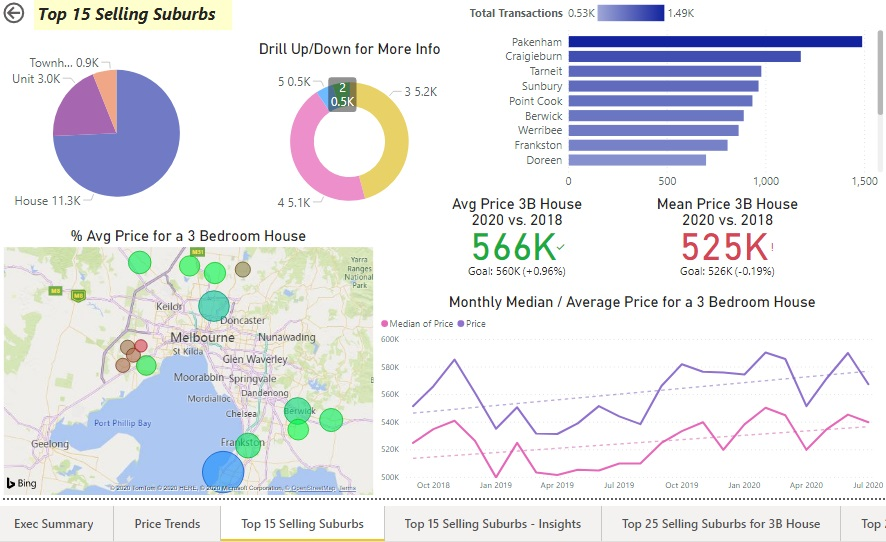

Layout of this report page (visuals, bound fields, positions):
{"tool":"powerbi","page":{"name":"Top 15 Sales Suburbs","canvas":[1280,720],"ordinal":2},"visuals":[{"type":"clusteredBarChart","title":"Top 10 Suburb with the Most Sales","fields":{"Y":["Melb_property_market_18_20.Total Transactions"],"Category":["Melb_property_market_18_20.Suburb"]},"box":[672.7,0,607.3,283.7],"z":0},{"type":"map","title":"% Avg Price for House 3 Bedrooms","fields":{"Category":["Melb_property_market_18_20.Melb_Location_Hierarchy.State","Melb_property_market_18_20.Melb_Location_Hierarchy.City","Melb_property_market_18_20.Melb_Location_Hierarchy.Suburb"],"Y":["Avg(Melb_property_market_18_20.Latitude)"],"X":["Avg(Melb_property_market_18_20.Longitude)"],"Size":["Melb_property_market_18_20.% Avg House Price 20/18"]},"box":[0,328.4,543.6,392.1],"z":1000},{"type":"pieChart","title":"Click on the property type for more info","fields":{"Y":["Melb_property_market_18_20.Total Transactions"],"Category":["Melb_property_market_18_20.Melb_Property_Hierarchy.PropertyType"]},"box":[0,59,336.3,269.4],"z":2000},{"type":"textbox","box":[49.4,0,430.4,44.6],"z":3000},{"type":"donutChart","title":"Drill Up/Down for More Info","fields":{"Y":["Melb_property_market_18_20.Total Transactions"],"Category":["Melb_property_market_18_20.Melb_Property_Hierarchy.PropertyType","Melb_property_market_18_20.Melb_Property_Hierarchy.Bedrooms"]},"box":[336.3,59,336.3,269.4],"z":4000},{"type":"actionButton","box":[0,0,100,40],"z":5000},{"type":"kpi","title":"Avg House 3 Bedrooms Price 2020 vs. 2018","fields":{"Indicator":["Melb_property_market_18_20.Avg 3 House Price 20"],"Goal":["Melb_property_market_18_20.Avg 3 House Price 18"],"TrendLine":["Melb_property_market_18_20.Year"]},"box":[621.7,283.7,304.5,132.3],"z":6000},{"type":"lineChart","title":"Monthly Median / Avg Price for 3 Bedrooms House","fields":{"Category":["Melb_property_market_18_20.Start of Month"],"Y":["Median(Melb_property_market_18_20.Price)","Avg(Melb_property_market_18_20.Price)"]},"box":[543.6,424,736.4,296.5],"z":7000},{"type":"kpi","title":"Med House 3 Bedrooms Price 2020 vs. 2018","fields":{"Goal":["Melb_property_market_18_20.Med 3 House Price 18"],"TrendLine":["Melb_property_market_18_20.Year"],"Indicator":["Melb_property_market_18_20.Med 3 House Price 20"]},"box":[975.5,283.7,304.5,132.3],"z":8000}]}

Visuals, with their boxes on the page's 1280x720 design canvas (x1, y1, x2, y2). These are canvas units, not pixel positions in the 886x542 screenshot, which may show the page scaled, cropped or inside an application window:
"Top 10 Suburb with the Most Sales" clusteredBarChart: <bbox>673, 0, 1280, 284</bbox>
"% Avg Price for House 3 Bedrooms" map: <bbox>0, 328, 544, 720</bbox>
"Click on the property type for more info" pieChart: <bbox>0, 59, 336, 328</bbox>
textbox: <bbox>49, 0, 480, 45</bbox>
"Drill Up/Down for More Info" donutChart: <bbox>336, 59, 673, 328</bbox>
actionButton: <bbox>0, 0, 100, 40</bbox>
"Avg House 3 Bedrooms Price 2020 vs. 2018" kpi: <bbox>622, 284, 926, 416</bbox>
"Monthly Median / Avg Price for 3 Bedrooms House" lineChart: <bbox>544, 424, 1280, 720</bbox>
"Med House 3 Bedrooms Price 2020 vs. 2018" kpi: <bbox>976, 284, 1280, 416</bbox>
